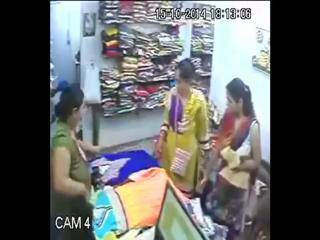Normal: (200, 78, 262, 236), (156, 57, 212, 198), (51, 84, 98, 240), (154, 182, 208, 240)
